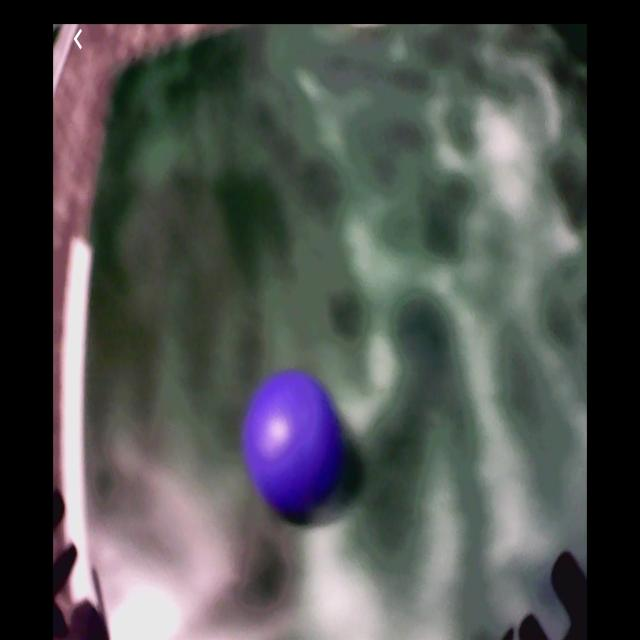ball: (244, 371, 344, 515)
